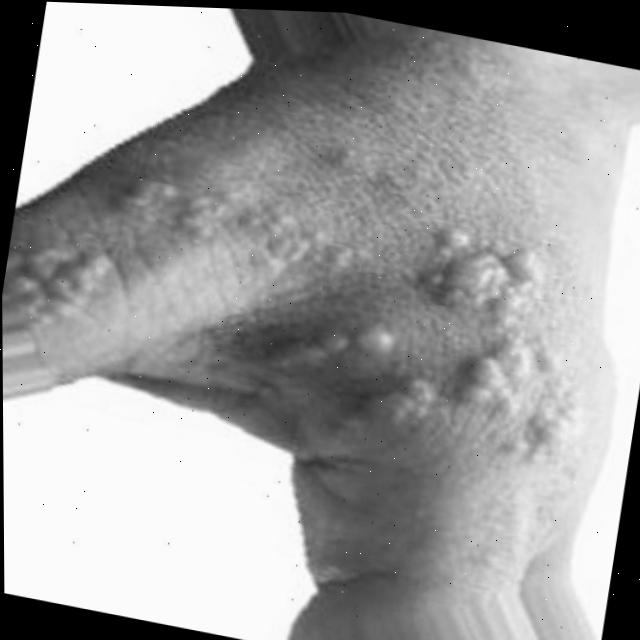Shingles: (388, 204, 617, 476), (95, 171, 360, 288), (307, 306, 401, 375)
